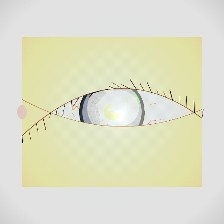corneal_ulcer: (86, 82, 152, 135)
